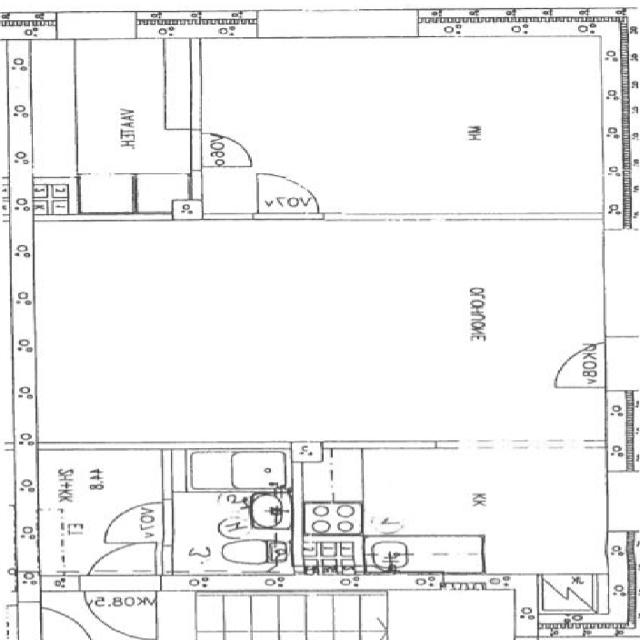door: (536, 340, 636, 387), (85, 526, 157, 591), (85, 575, 157, 639), (257, 172, 320, 220), (100, 502, 172, 542), (193, 133, 252, 166)
